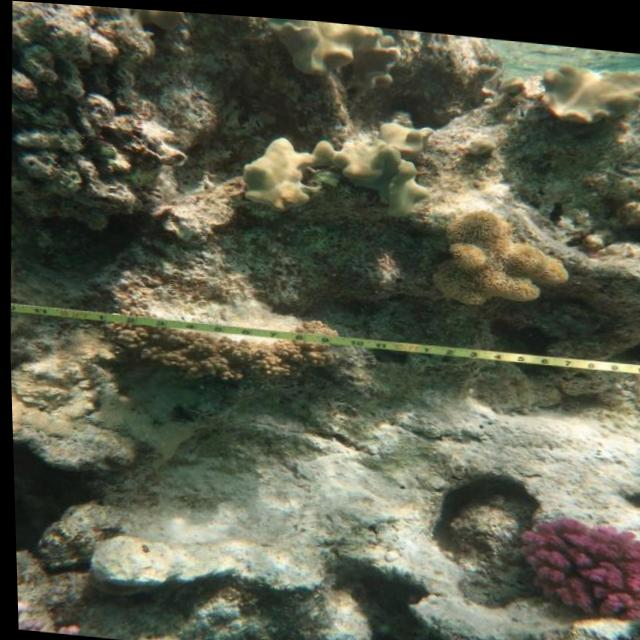Dead Coral: (5, 39, 166, 259)
Healthy Coral: (503, 502, 640, 625), (424, 196, 566, 309)
